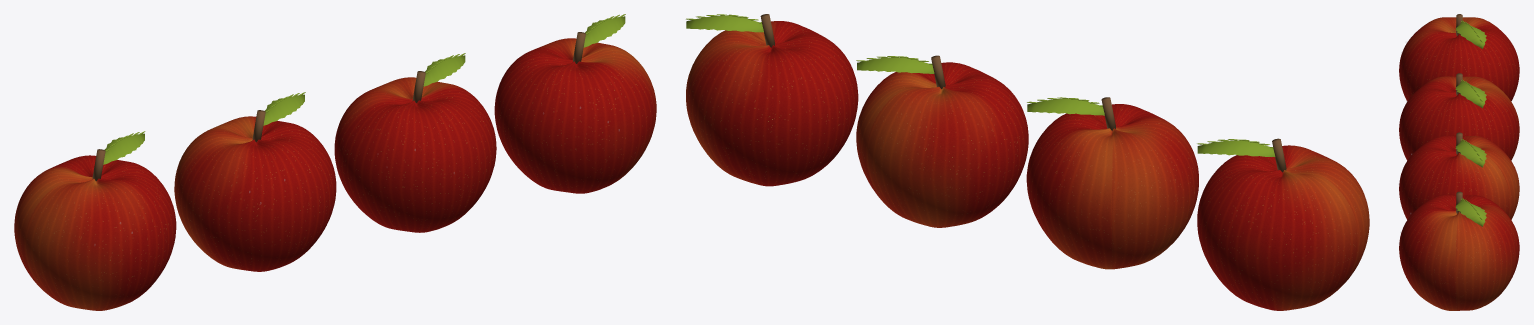
Rendered from apples.glb.
The picture shows the model from 3 angles, left to right: view 1: azimuth 30°, elevation 25°; view 2: azimuth 150°, elevation 25°; view 3: azimuth 270°, elevation 25°; orthographic projection. The views are drawn at different scales.
Parts seen in each view (by area): view 1: Apple 4 organic lobed skin, Apple 3 organic lobed skin, Apple 2 organic lobed skin, Apple 1 organic lobed skin, Apple 1 veined natural leaf, Apple 3 veined natural leaf, Apple 4 veined natural leaf, Apple 2 veined natural leaf; view 2: Apple 1 organic lobed skin, Apple 3 organic lobed skin, Apple 4 organic lobed skin, Apple 2 organic lobed skin, Apple 1 veined natural leaf, Apple 3 veined natural leaf, Apple 2 veined natural leaf, Apple 4 veined natural leaf; view 3: Apple 4 organic lobed skin, Apple 2 organic lobed skin, Apple 3 organic lobed skin, Apple 1 organic lobed skin, Apple 4 veined natural leaf, Apple 3 veined natural leaf, Apple 1 veined natural leaf, Apple 2 veined natural leaf.
Part boxes in pixels (left/top/right/bottom): Apple 4 organic lobed skin: left=494, top=38, right=656, bottom=193; Apple 3 organic lobed skin: left=334, top=77, right=496, bottom=232; Apple 2 organic lobed skin: left=174, top=116, right=336, bottom=271; Apple 1 organic lobed skin: left=14, top=155, right=176, bottom=310; Apple 1 veined natural leaf: left=103, top=133, right=144, bottom=164; Apple 3 veined natural leaf: left=423, top=55, right=465, bottom=86; Apple 4 veined natural leaf: left=583, top=16, right=625, bottom=47; Apple 2 veined natural leaf: left=263, top=94, right=304, bottom=125; Apple 1 organic lobed skin: left=1197, top=145, right=1369, bottom=310; Apple 3 organic lobed skin: left=856, top=62, right=1028, bottom=227; Apple 4 organic lobed skin: left=686, top=21, right=858, bottom=186; Apple 2 organic lobed skin: left=1026, top=104, right=1198, bottom=269; Apple 1 veined natural leaf: left=1197, top=140, right=1275, bottom=156; Apple 3 veined natural leaf: left=857, top=57, right=934, bottom=73; Apple 2 veined natural leaf: left=1027, top=99, right=1104, bottom=115; Apple 4 veined natural leaf: left=686, top=15, right=763, bottom=32; Apple 4 organic lobed skin: left=1399, top=194, right=1519, bottom=310; Apple 2 organic lobed skin: left=1399, top=76, right=1519, bottom=160; Apple 3 organic lobed skin: left=1399, top=135, right=1519, bottom=219; Apple 1 organic lobed skin: left=1399, top=17, right=1519, bottom=101; Apple 4 veined natural leaf: left=1455, top=199, right=1486, bottom=226; Apple 3 veined natural leaf: left=1455, top=140, right=1486, bottom=167; Apple 1 veined natural leaf: left=1455, top=22, right=1486, bottom=48; Apple 2 veined natural leaf: left=1455, top=81, right=1486, bottom=108.
Bounding box in the file's own units: 0.3726 × 0.0865 × 0.083.
4 materials, 1 textured.
